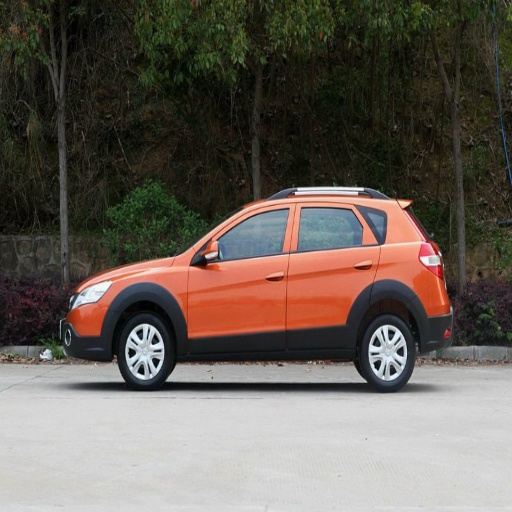back_left_door: (287, 200, 378, 344)
front_left_door: (188, 201, 294, 343)
